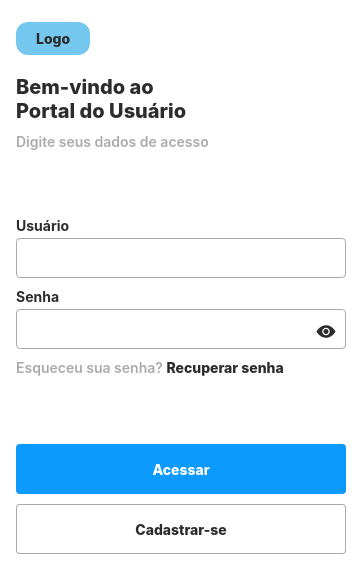
Test case: Login › Expect to don't show errors when input isn't empty
The image size is (363, 577).
Click the text "Acessar" at (181, 469), box x1=152 y1=461 x2=210 y2=478
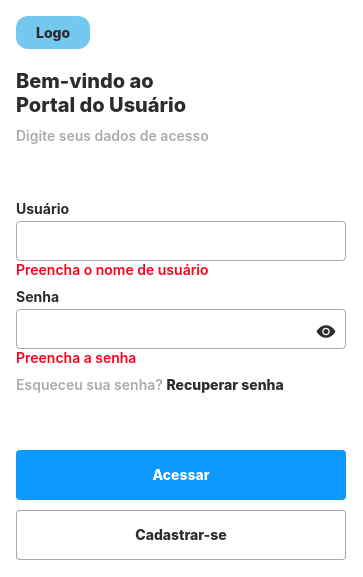
Check: the text "Preencha o nome de usuário" is shown, box x1=16 y1=262 x2=208 y2=278
Check: the text "Preencha a senha" is shown, box x1=16 y1=350 x2=136 y2=366
Type "test" into the field with test id "user-input" at (181, 242), box x1=16 y1=222 x2=346 y2=262
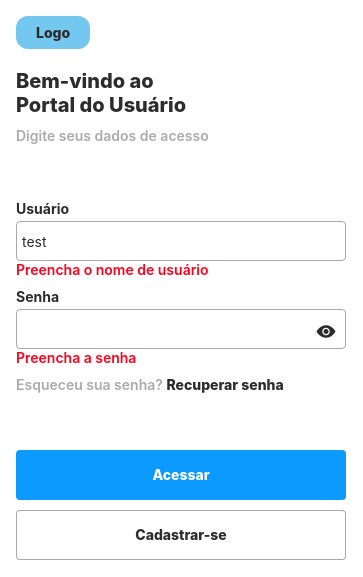
Type "test" into the password field with test id "password-input" at (181, 330), box x1=16 y1=310 x2=346 y2=350
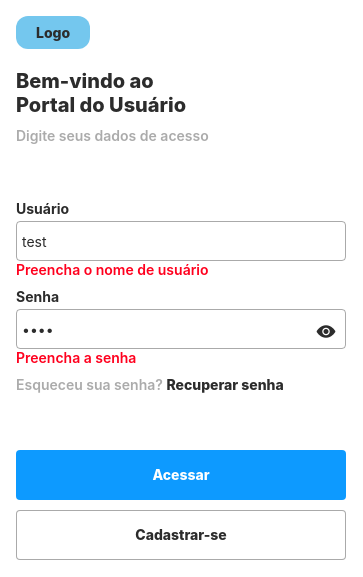
Click the text "Acessar" at (181, 475), box x1=152 y1=466 x2=210 y2=483
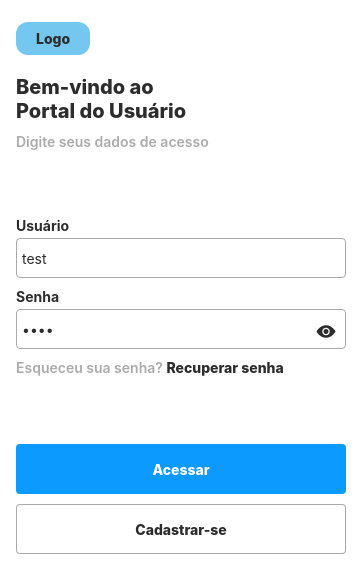
Check: the text "Preencha o nome de usuário" is gone
Check: the text "Preencha a senha" is gone
